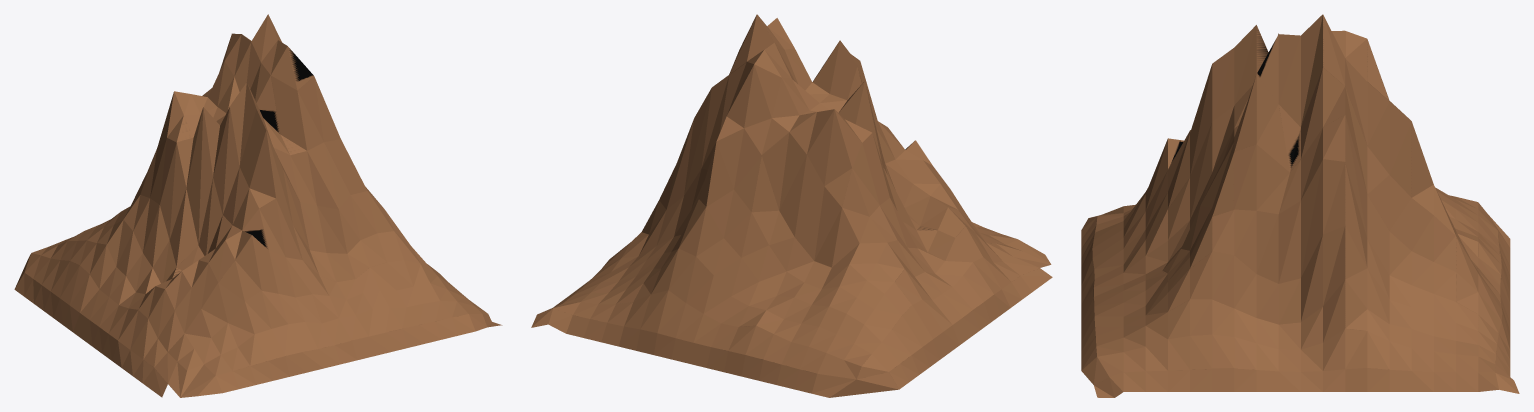
The picture shows the model from 3 angles, left to right: view 1: azimuth 30°, elevation 25°; view 2: azimuth 150°, elevation 25°; view 3: azimuth 270°, elevation 25°; orthographic projection. The views are drawn at different scales.
Parts seen in each view (by area): view 1: Mountain; view 2: Mountain; view 3: Mountain.
Boxes of the visible parts, box(x1,y1,x2,y2) form: Mountain: box(14, 14, 502, 397); Mountain: box(531, 14, 1052, 397); Mountain: box(1081, 14, 1519, 397).
Bounding box in the file's own units: 377 × 297 × 380.
1 material, 1 textured.
